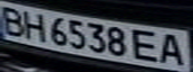3: (84, 20, 109, 55)
5: (66, 17, 87, 52)
6: (45, 15, 69, 47)
8: (106, 24, 130, 58)
A: (157, 32, 190, 68)
B: (0, 3, 27, 37)
E: (130, 27, 163, 63)
H: (21, 10, 48, 42)
